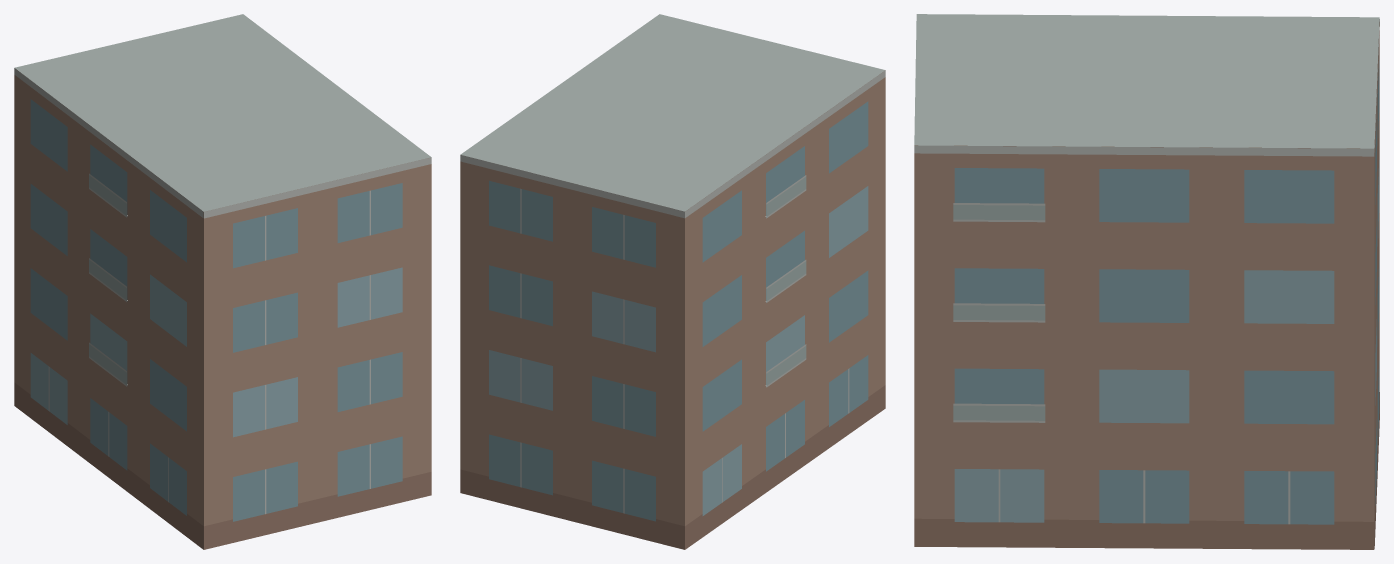
File: survey-upis-32815971.glb
The picture shows the model from 3 angles, left to right: view 1: azimuth 30°, elevation 25°; view 2: azimuth 150°, elevation 25°; view 3: azimuth 270°, elevation 25°; orthographic projection. The views are drawn at different scales.
Parts seen in each view (by area): view 1: survey-upis-32815971.tmp; view 2: survey-upis-32815971.tmp; view 3: survey-upis-32815971.tmp.
Part boxes in pixels (left/top/right/bottom): survey-upis-32815971.tmp: left=14, top=14, right=431, bottom=549; survey-upis-32815971.tmp: left=460, top=14, right=885, bottom=549; survey-upis-32815971.tmp: left=914, top=14, right=1379, bottom=549.
Bounding box in the file's own units: 8.78 × 12.2 × 12.83.
